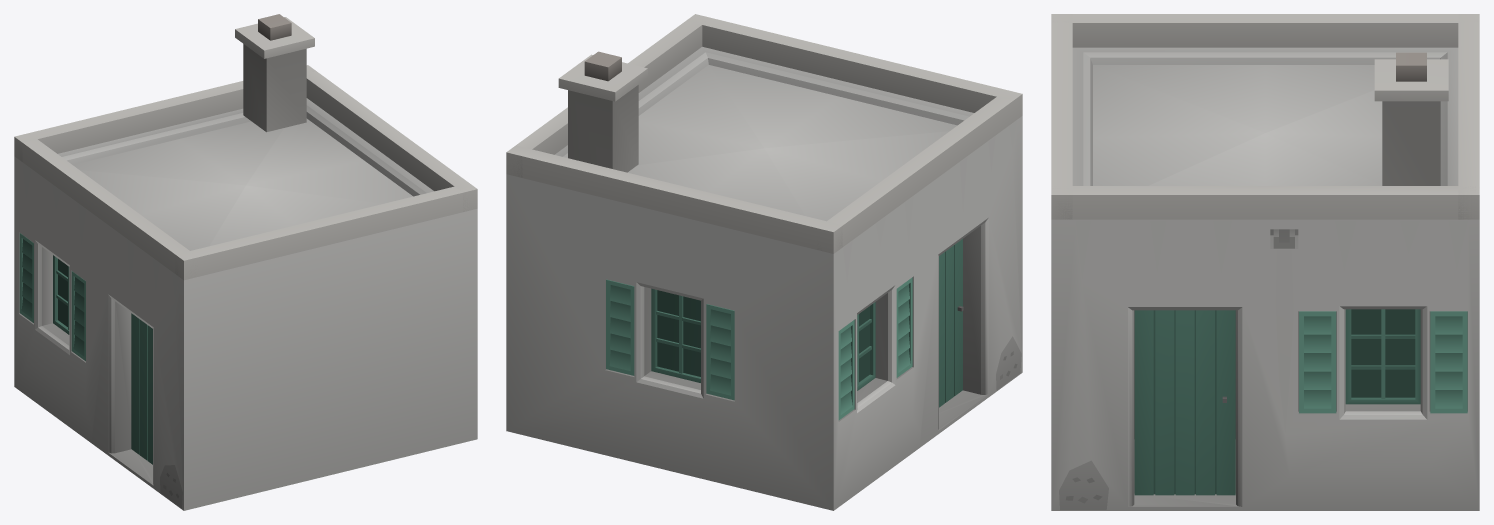
The picture shows the model from 3 angles, left to right: view 1: azimuth 30°, elevation 25°; view 2: azimuth 150°, elevation 25°; view 3: azimuth 270°, elevation 25°; orthographic projection. The views are drawn at different scales.
Visible parts, largest first — view 1: cube1b; view 2: cube1b; view 3: cube1b.
Boxes of the visible parts, box(x1,y1,x2,y2) form: cube1b: box(14, 14, 477, 510); cube1b: box(506, 14, 1022, 510); cube1b: box(1051, 14, 1479, 510).
Size of the model in its own units: 4.4 by 4.7 by 4.4.
